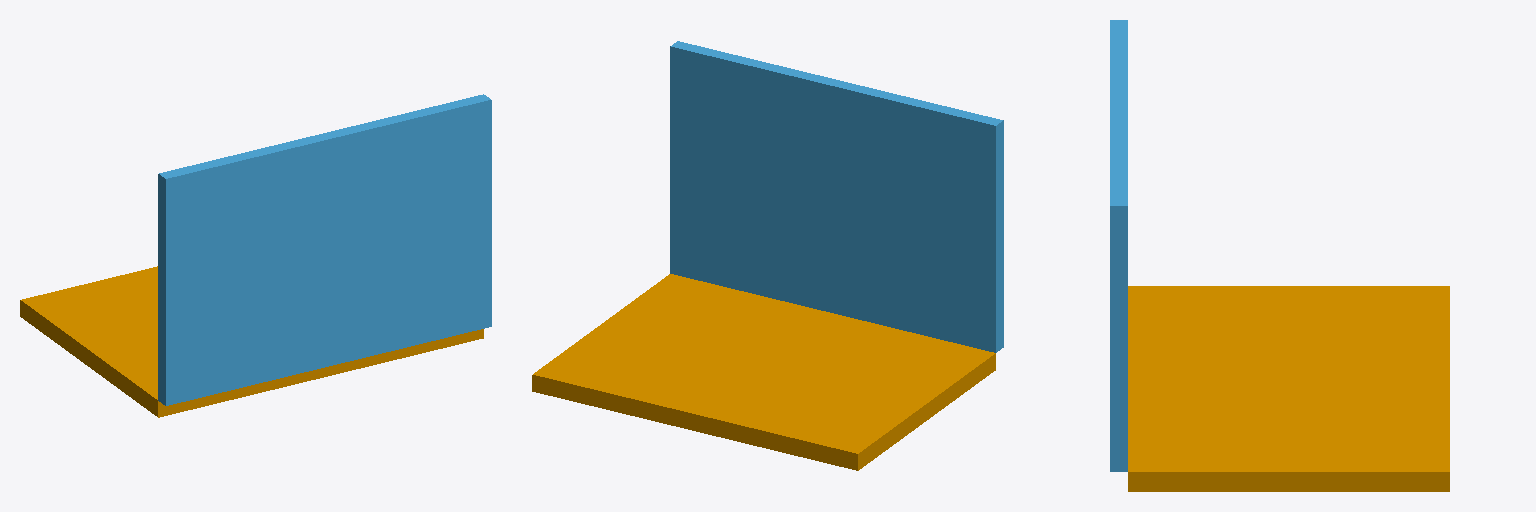
The robot description file, URDF, robot "laptop":
<robot name="laptop">
  <link name="parent"><visual><geometry><mesh filename="parent.obj"/></geometry></visual></link>
  <link name="child"><visual><geometry><mesh filename="child.obj"/></geometry></visual></link>
  <joint name="j" type="revolute">
    <parent link="parent"/><child link="child"/>
    <origin xyz="0.000000 -0.110000 0.023000" rpy="0 0 0"/>
    <axis xyz="1.000000 0.000000 0.000000"/>
  </joint>
</robot>

--- What the picture shows (computed from the rendered views, not written in the file) ---
Views: 3 orthographic renders of the robot side by side, from view 1: azimuth 30°, elevation 25°; view 2: azimuth 150°, elevation 25°; view 3: azimuth 270°, elevation 25°.
Model laptop with 2 links and 1 joints (1 revolute), rooted at parent, posed every joint at zero.
Visible links, largest first — view 1: child, parent; view 2: child, parent; view 3: parent, child.
Link boxes in pixels (x1,y1,x2,y2): child: (158, 94, 491, 405); parent: (20, 266, 483, 417); child: (670, 41, 1003, 352); parent: (532, 274, 995, 470); parent: (1128, 286, 1449, 491); child: (1110, 20, 1127, 471).
Bounding box of the posed robot: 0.3 × 0.232 × 0.215 m (x, y, z).
Meshes: 2 distinct files referenced, 2 mesh visuals loaded (2 OBJ).
